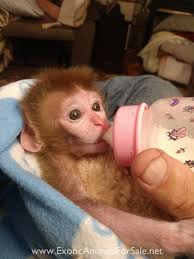monkey: (12, 36, 193, 259)
